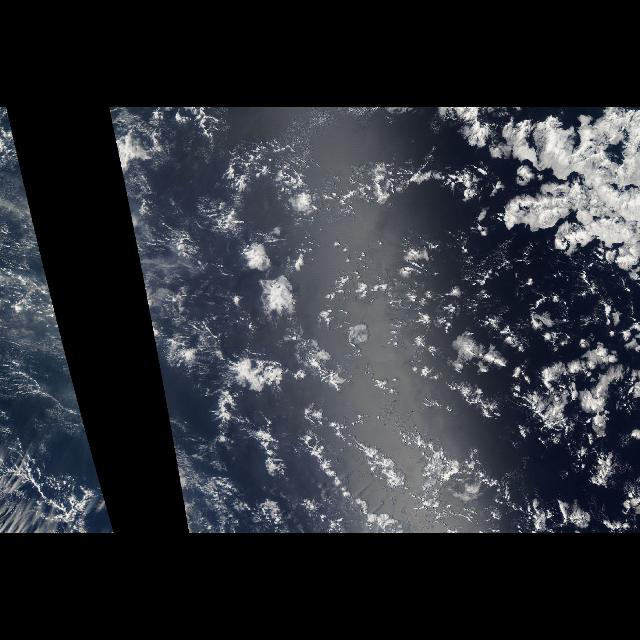Flower: (202, 192, 640, 456)
Gravel: (374, 252, 636, 520)
Sugar: (108, 109, 190, 408), (4, 109, 80, 408)
